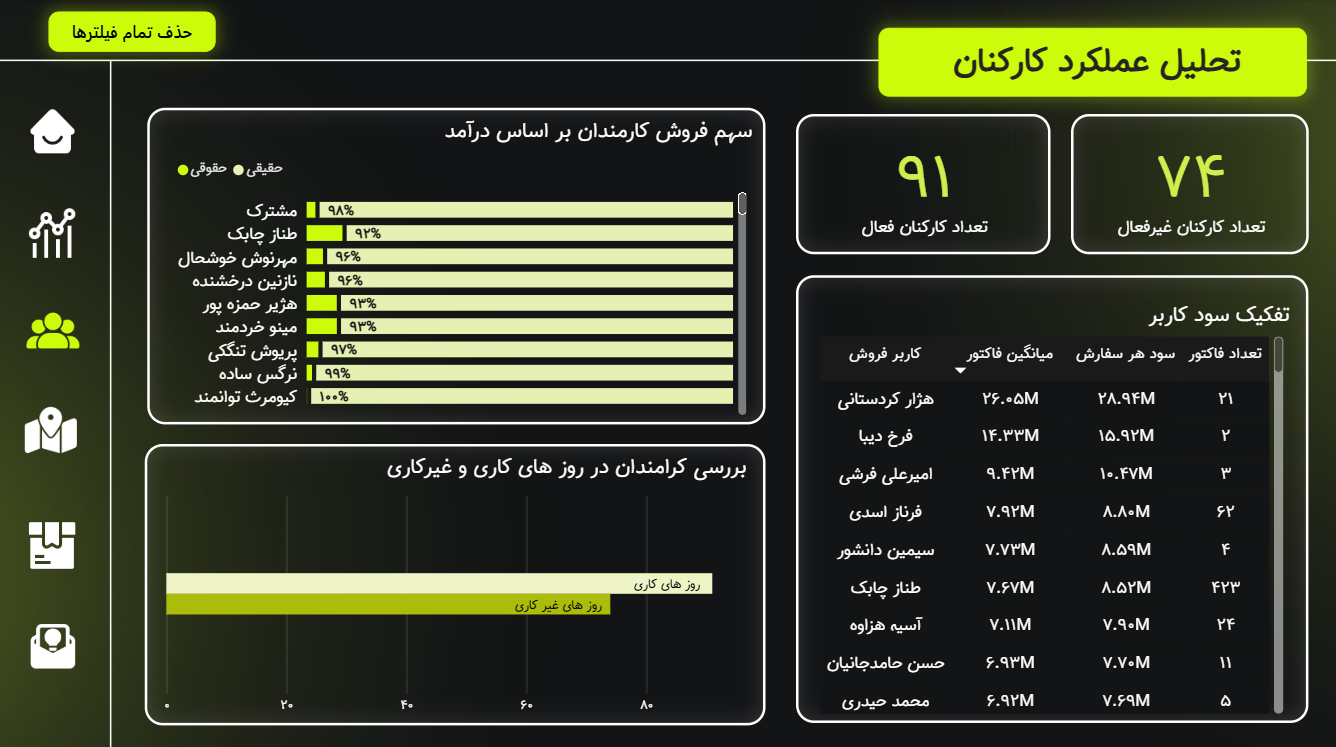

What the dashboard file says about the page in this screenshot:
{"tool":"powerbi","page":{"name":"Page 1","canvas":[1280,720],"ordinal":1},"visuals":[{"type":"group","id":"g1","title":"UI_Background","box":[0,0,1279.6,720.7],"z":0},{"type":"shape","title":"Shape_Up","box":[0,0,1280.3,60.4],"z":0,"group":"g1"},{"type":"shape","box":[388,136,227,136],"z":0,"group":"g4"},{"type":"shape","box":[141,137,228,136],"z":0,"group":"g2"},{"type":"shape","title":"Shape_Left","box":[0,56.3,109.8,664.2],"z":1000,"group":"g1"},{"type":"group","id":"g2","title":"Cared_1","box":[141,131,228,142],"z":1000,"group":"g3"},{"type":"shape","title":"Shape_Cared_1","box":[154.6,151.8,10.8,58],"z":1000,"group":"g2"},{"type":"shape","title":"Shape_Cared_1","box":[403.3,162.3,10.3,53.5],"z":1000,"group":"g4"},{"type":"group","id":"g3","title":"G_Users","box":[140,23,1106,626.4],"z":2000},{"type":"image","title":"Btn_Home","box":[20.2,98.8,67.9,54.8],"z":2000,"group":"g1"},{"type":"textbox","title":"Title_Cared_1","box":[165.7,131,168.5,46.1],"z":2000,"group":"g2"},{"type":"group","id":"g4","title":"Cared_2","box":[388,136,227,136],"z":2000,"group":"g3"},{"type":"textbox","title":"Title_Cared_1","box":[413.8,143.1,160.1,42.5],"z":2000,"group":"g4"},{"type":"shape","title":"Shape_Main","box":[109.5,59.5,1170.2,660.7],"z":3000,"group":"g1"},{"type":"card","title":"Profit_Cared_1","fields":{"Values":["Dim_Measure.Sales MoM %"]},"box":[155.1,218.6,43.5,33.3],"z":3000,"group":"g2"},{"type":"card","title":"Profit_Cared_1","fields":{"Values":["Dim_Measure.Profit MoM %"]},"box":[403.8,223.8,41.3,30.7],"z":3000,"group":"g4"},{"type":"clusteredBarChart","title":"پرفروش ترین سرویس","fields":{"Category":["Fact_Sales.نوع سرویس"],"Y":["Dim_Measure.Total Profit"]},"box":[636,137,610,504],"z":4000,"group":"g3"},{"type":"image","title":"Btn_Analytis","box":[25,188.1,57.1,69],"z":4000,"group":"g1"},{"type":"textbox","title":"Since_Of_Mounth_1","box":[192.9,216.8,120.5,38.5],"z":4000,"group":"g2"},{"type":"textbox","title":"Since_Of_Mounth_1","box":[439.7,222.2,114.5,35.5],"z":4000,"group":"g4"},{"type":"card","fields":{"Values":["Dim_Measure.Total Sales"]},"box":[162.7,165.8,185,61],"z":5000,"group":"g2"},{"type":"card","fields":{"Values":["Dim_Measure.Total Profit"]},"box":[406.9,173.8,162.1,57.1],"z":5000,"group":"g4"},{"type":"lineChart","title":"میزان فروش","fields":{"Y":["Dim_Measure.Total Profit","Dim_Measure.Total Sales"],"Category":["Dim_Date.jmonthT"]},"box":[140,309,475,333],"z":5000,"group":"g3"},{"type":"image","title":"Btn_Map","box":[25,385.7,57.1,57.1],"z":5000,"group":"g1"},{"type":"shape","title":"Box_Clear_All_Filter","box":[50.2,12.1,159.3,38.1],"z":6000,"group":"g1"},{"type":"textbox","title":"subject","box":[870.1,30.8,356.7,67.5],"z":6000,"group":"g3"},{"type":"shape","title":"Shape_Btn_Filter","box":[746.1,30.7,53,51],"z":7000,"group":"g3"},{"type":"image","title":"Btn_Package","box":[25,490.5,57.1,59.5],"z":7000,"group":"g1"},{"type":"shape","title":"Line_Left","box":[102.7,60.3,12.8,659.8],"z":8000,"group":"g1"},{"type":"image","title":"Btn_help","box":[24.7,590.1,57.6,52.1],"z":9000,"group":"g1"},{"type":"image","title":"Btn_Users","box":[22.6,285.7,63.1,58.3],"z":10000,"group":"g1"},{"type":"shape","title":"Line_UP","box":[0,53.4,1279.9,13.2],"z":11000,"group":"g1"},{"type":"shape","title":"Box_Subject","box":[840.5,27.4,407.9,65.3],"z":12000,"group":"g1"}]}

Visuals, with their boxes in screenshot pixels (x1, y1, x2, y2), scaled from the page's 1280x720 canvas onto the 1336x747 screenshot:
"UI_Background" group: {"x1": 0, "y1": 0, "x2": 1335, "y2": 746}
"Shape_Up" shape: {"x1": 0, "y1": 0, "x2": 1335, "y2": 63}
shape: {"x1": 405, "y1": 141, "x2": 642, "y2": 282}
shape: {"x1": 147, "y1": 142, "x2": 385, "y2": 283}
"Shape_Left" shape: {"x1": 0, "y1": 58, "x2": 115, "y2": 746}
"Cared_1" group: {"x1": 147, "y1": 136, "x2": 385, "y2": 283}
"Shape_Cared_1" shape: {"x1": 161, "y1": 157, "x2": 173, "y2": 218}
"Shape_Cared_1" shape: {"x1": 421, "y1": 168, "x2": 432, "y2": 224}
"G_Users" group: {"x1": 146, "y1": 24, "x2": 1301, "y2": 674}
"Btn_Home" image: {"x1": 21, "y1": 103, "x2": 92, "y2": 159}
"Title_Cared_1" textbox: {"x1": 173, "y1": 136, "x2": 349, "y2": 184}
"Cared_2" group: {"x1": 405, "y1": 141, "x2": 642, "y2": 282}
"Title_Cared_1" textbox: {"x1": 432, "y1": 148, "x2": 599, "y2": 193}
"Shape_Main" shape: {"x1": 114, "y1": 62, "x2": 1335, "y2": 746}
"Profit_Cared_1" card: {"x1": 162, "y1": 227, "x2": 207, "y2": 261}
"Profit_Cared_1" card: {"x1": 421, "y1": 232, "x2": 465, "y2": 264}
"پرفروش ترین سرویس" clusteredBarChart: {"x1": 664, "y1": 142, "x2": 1301, "y2": 665}
"Btn_Analytis" image: {"x1": 26, "y1": 195, "x2": 86, "y2": 267}
"Since_Of_Mounth_1" textbox: {"x1": 201, "y1": 225, "x2": 327, "y2": 265}
"Since_Of_Mounth_1" textbox: {"x1": 459, "y1": 231, "x2": 578, "y2": 267}
card - Dim_Measure.Total Sales: {"x1": 170, "y1": 172, "x2": 363, "y2": 235}
card - Dim_Measure.Total Profit: {"x1": 425, "y1": 180, "x2": 594, "y2": 240}
"میزان فروش" lineChart: {"x1": 146, "y1": 321, "x2": 642, "y2": 666}
"Btn_Map" image: {"x1": 26, "y1": 400, "x2": 86, "y2": 459}
"Box_Clear_All_Filter" shape: {"x1": 52, "y1": 13, "x2": 219, "y2": 52}
"subject" textbox: {"x1": 908, "y1": 32, "x2": 1280, "y2": 102}
"Shape_Btn_Filter" shape: {"x1": 779, "y1": 32, "x2": 834, "y2": 85}
"Btn_Package" image: {"x1": 26, "y1": 509, "x2": 86, "y2": 571}
"Line_Left" shape: {"x1": 107, "y1": 63, "x2": 121, "y2": 746}
"Btn_help" image: {"x1": 26, "y1": 612, "x2": 86, "y2": 666}
"Btn_Users" image: {"x1": 24, "y1": 296, "x2": 89, "y2": 357}
"Line_UP" shape: {"x1": 0, "y1": 55, "x2": 1335, "y2": 69}
"Box_Subject" shape: {"x1": 877, "y1": 28, "x2": 1303, "y2": 96}
